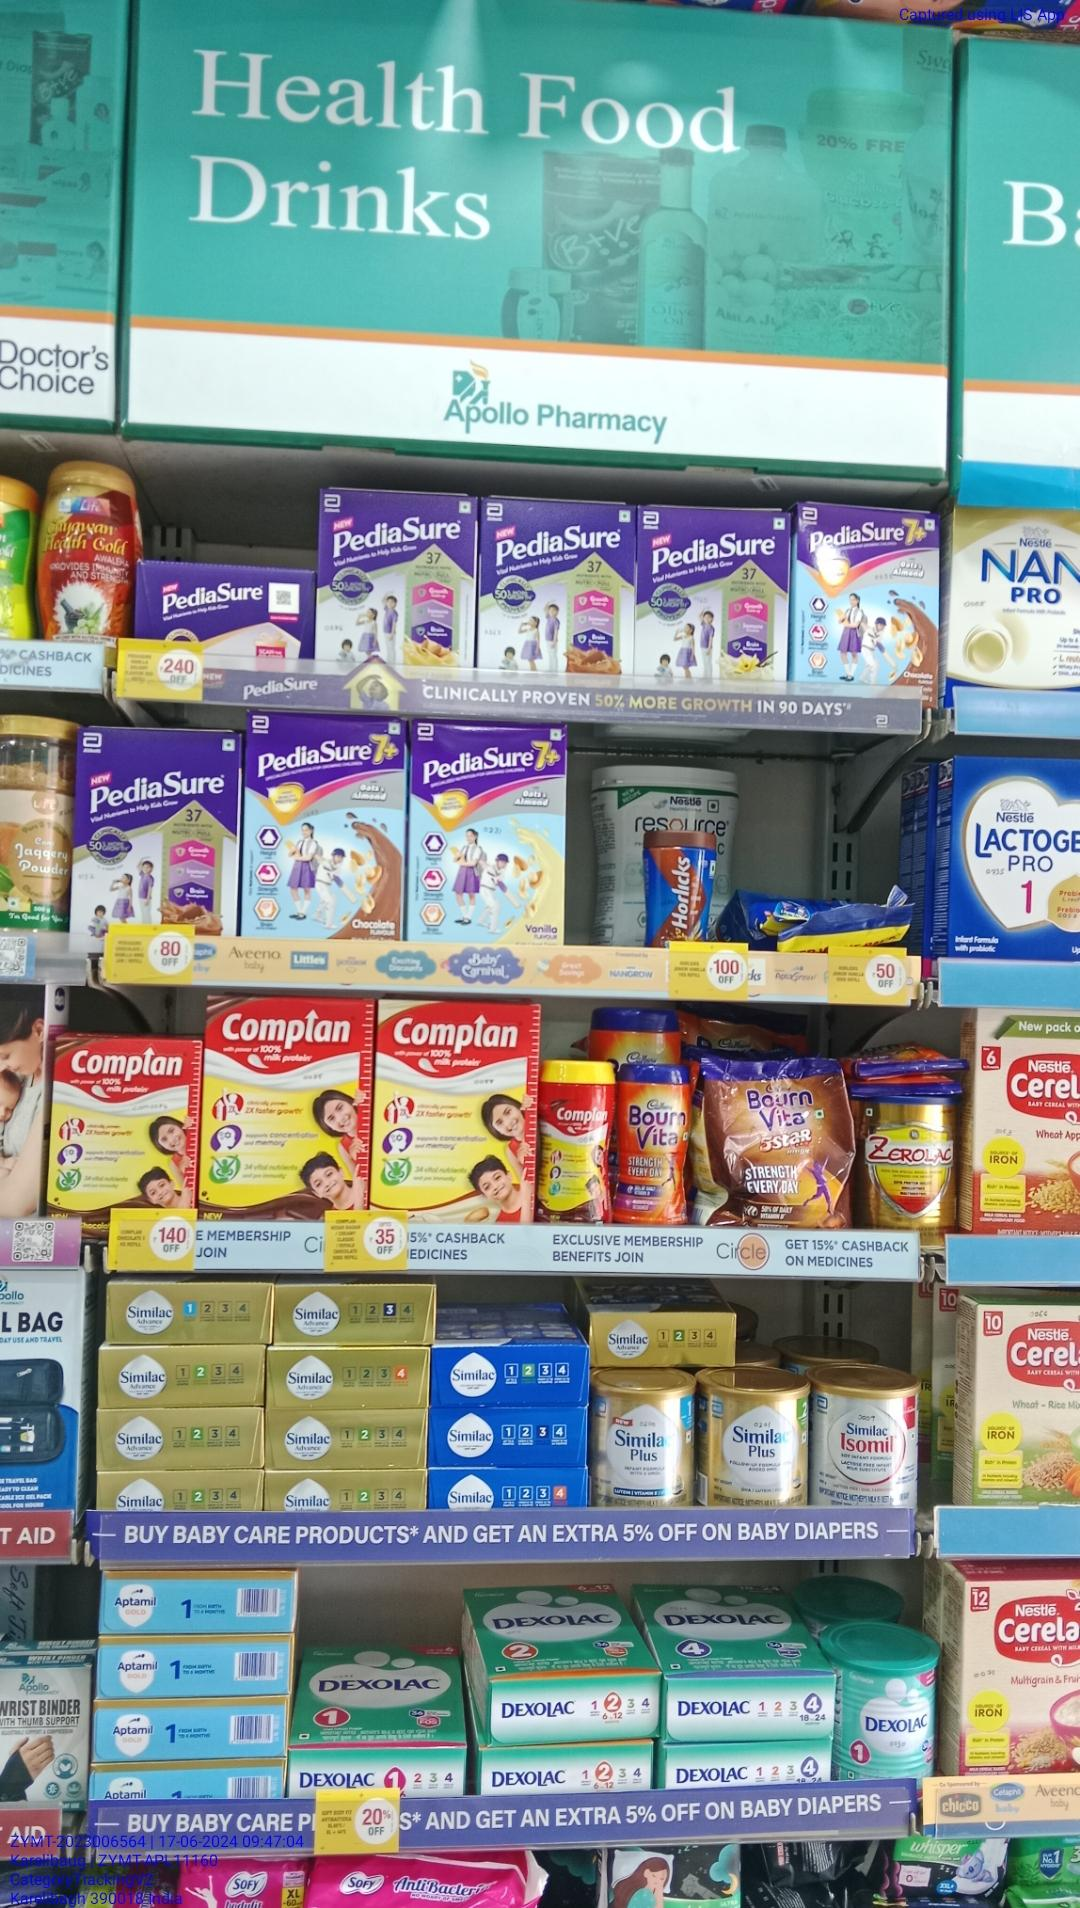BOURN_VITA_200_G_JAR: (616, 1064, 692, 1229)
COMPLAN_CHOCOLATE_200_GMS_JAR: (540, 1060, 612, 1220)
COMPLAN_CHOCOLATE_200_GMS_PACK: (50, 1037, 198, 1215)
PEDIASURE_7_PLUS_CHOCOLATE_400_G_PACK: (245, 715, 410, 937), (797, 501, 937, 689)
PEDIASURE_CHOCOLATE_500_G_PACK: (81, 726, 239, 937), (478, 497, 634, 684)
PEDIASURE_VANILLA_500_G_PACK: (640, 506, 790, 683)
